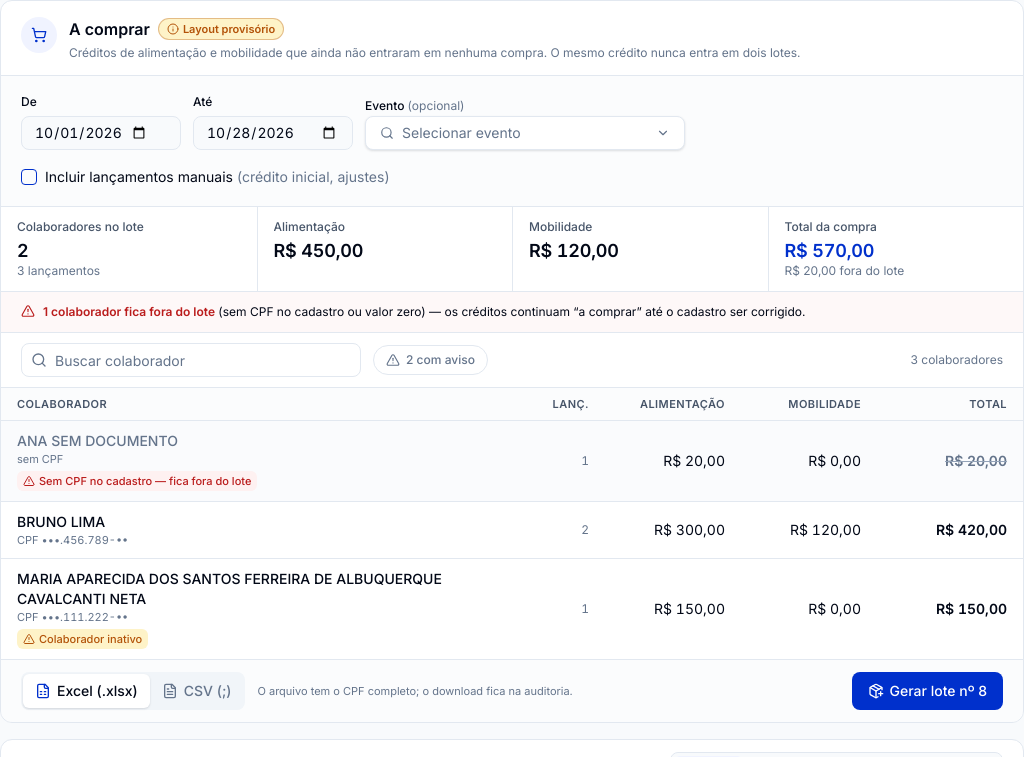
Test: Compras Flash: gerar o lote › 409 "mudou": mostra o erro, trava o confirmar e oferece ver a prévia de novo
Click the button with test id "compra-gerar".
click(927, 691)  # box [852,672,1003,710]
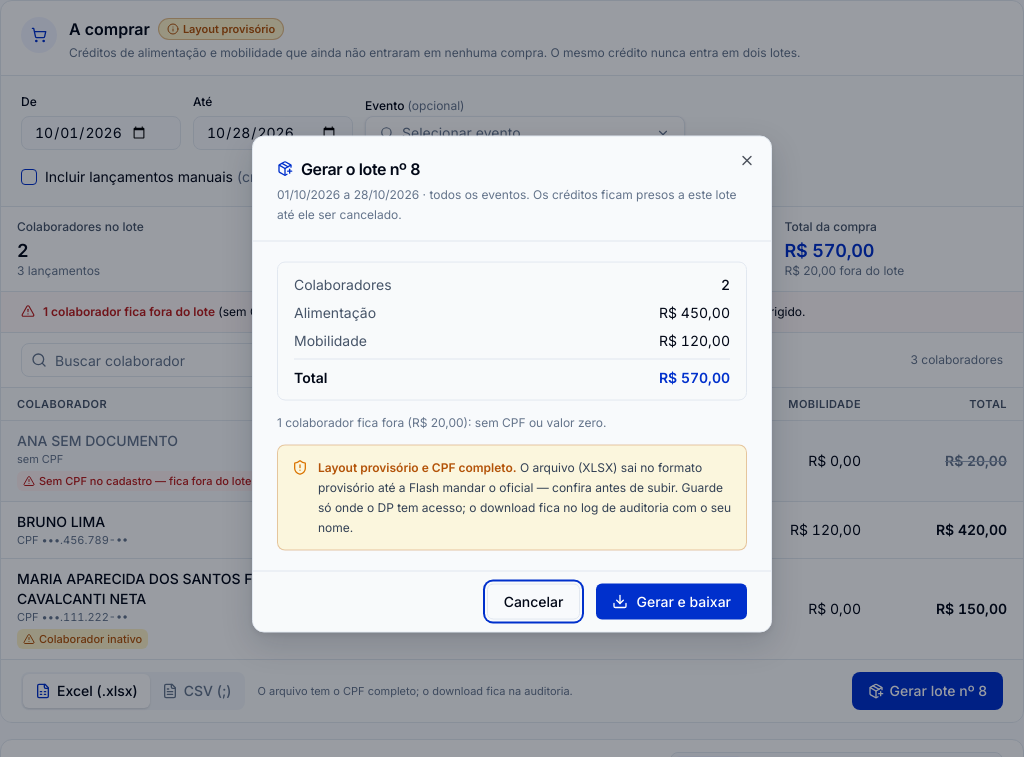
Click the button with test id "compra-confirmar".
click(672, 602)  # box [596,584,747,620]
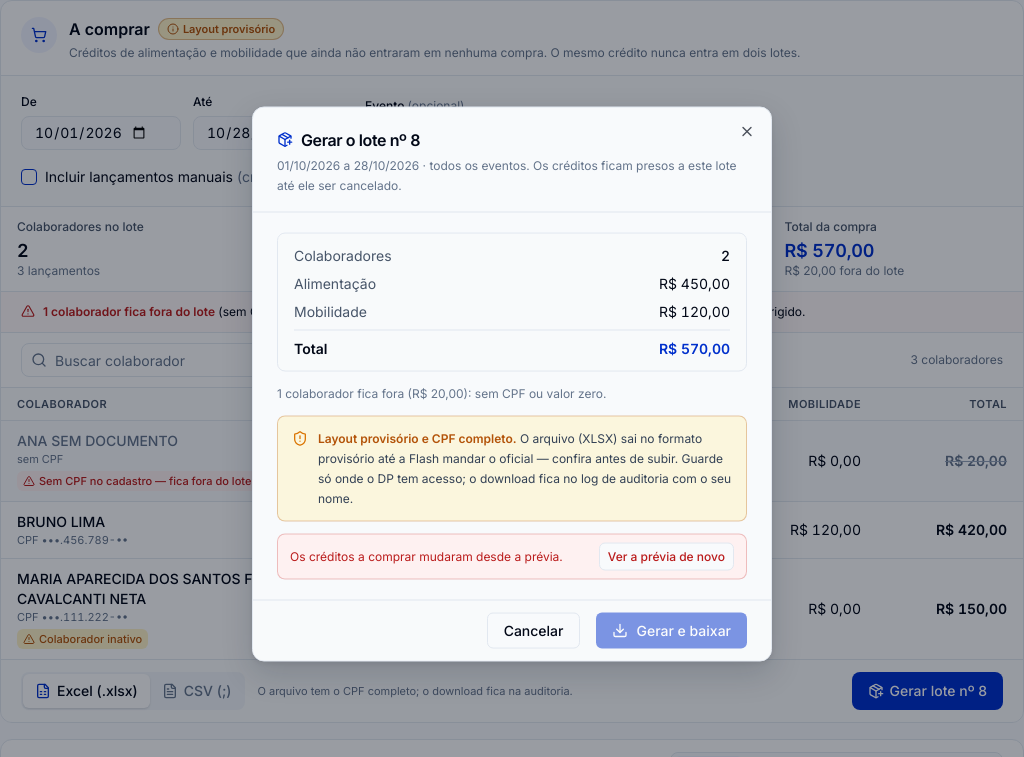
Now the message with test id "compra-dialogo-erro" shows "mudaram desde a prévia", box [290,548,563,564]
Now the button with test id "compra-confirmar" is disabled, box [596,612,747,648]
Now the button "Ver a prévia de novo" is shown, box [599,542,734,570]
